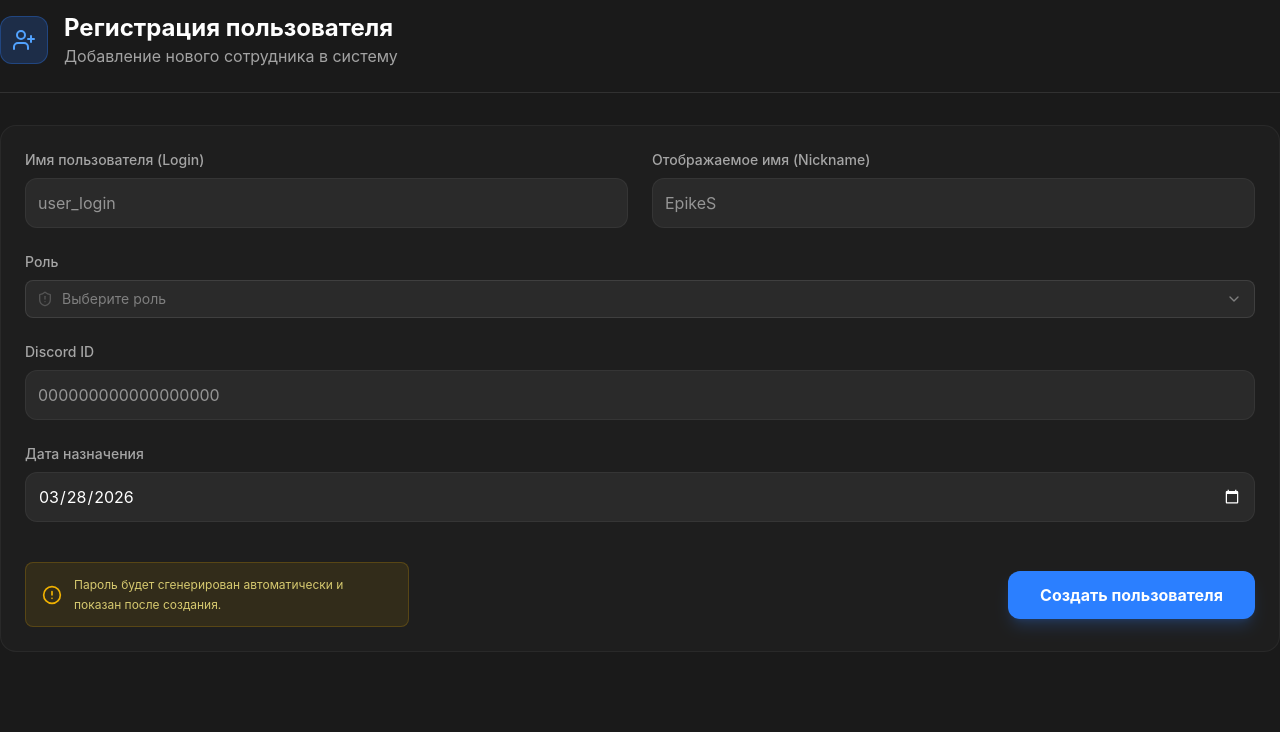
Scenario: UserRegistration › includes developer role for developer user
Step 1. Click the text "Выберите роль" → (114, 299), box [62,289,166,309]
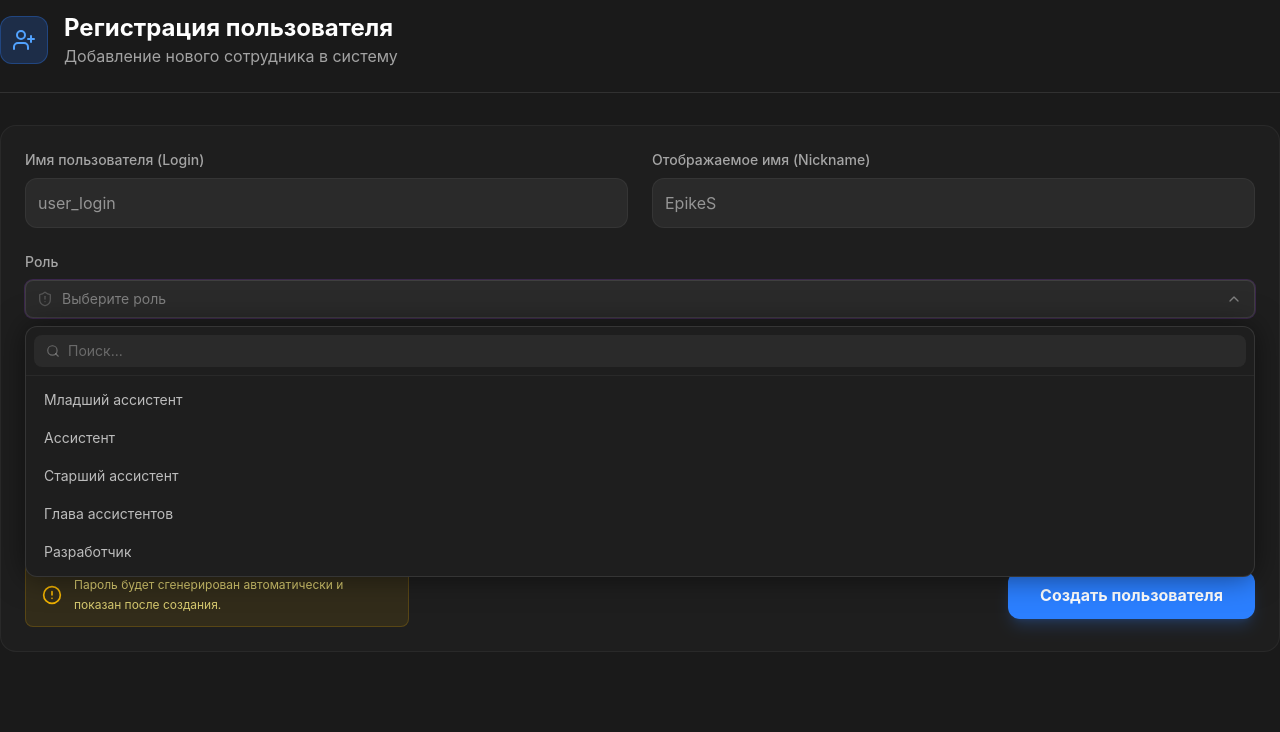
expect the text "Разработчик" is shown: met, box [44,542,132,562]
